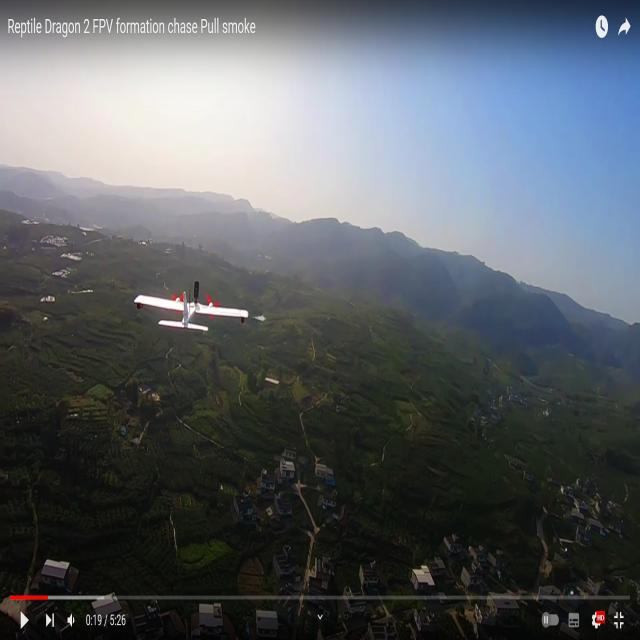iha: (172, 289, 218, 342)
